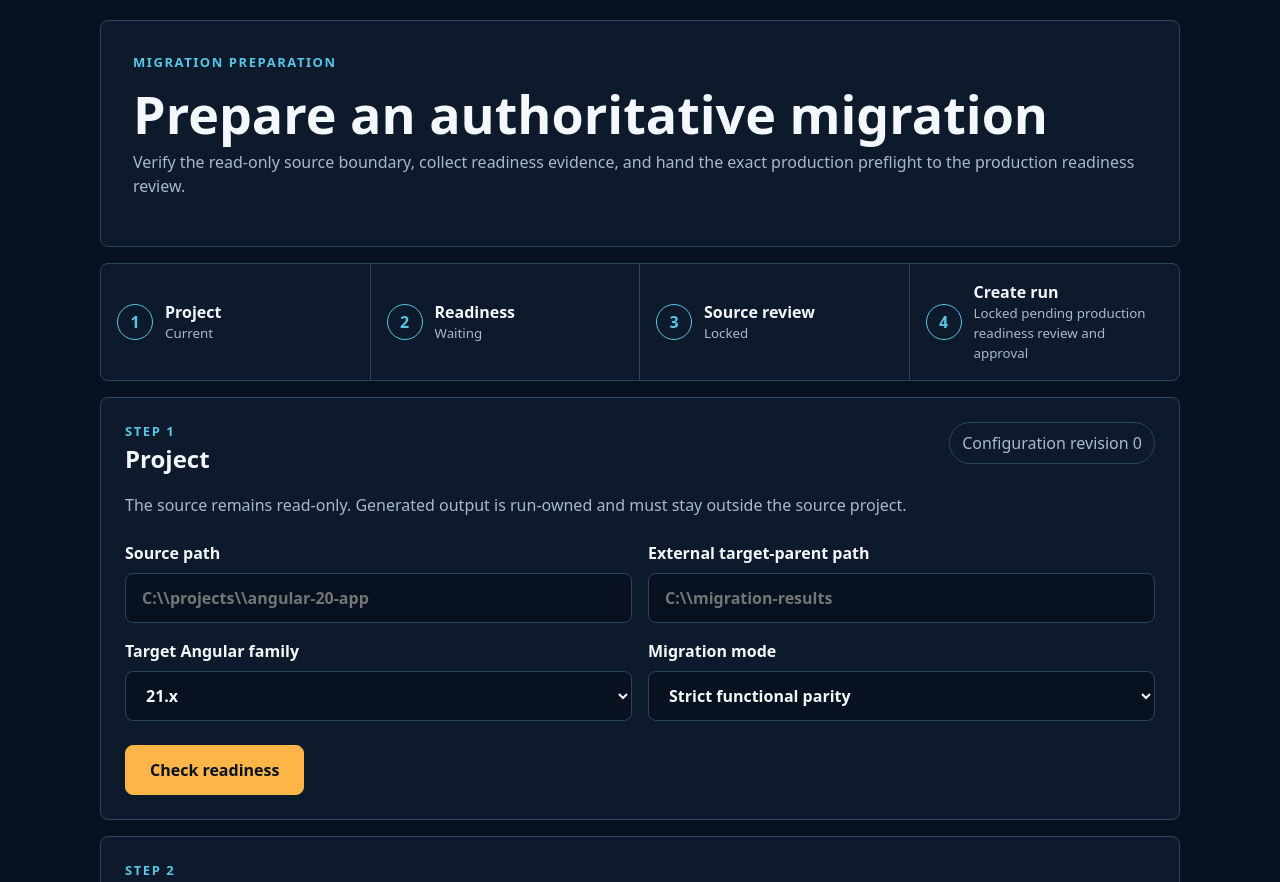
MigrationSetupForm › keeps warning evidence visible while permitting G01 review
Type "C:/external/source" into the field labelled "Source path" at (378, 598), box [125,573,632,623]
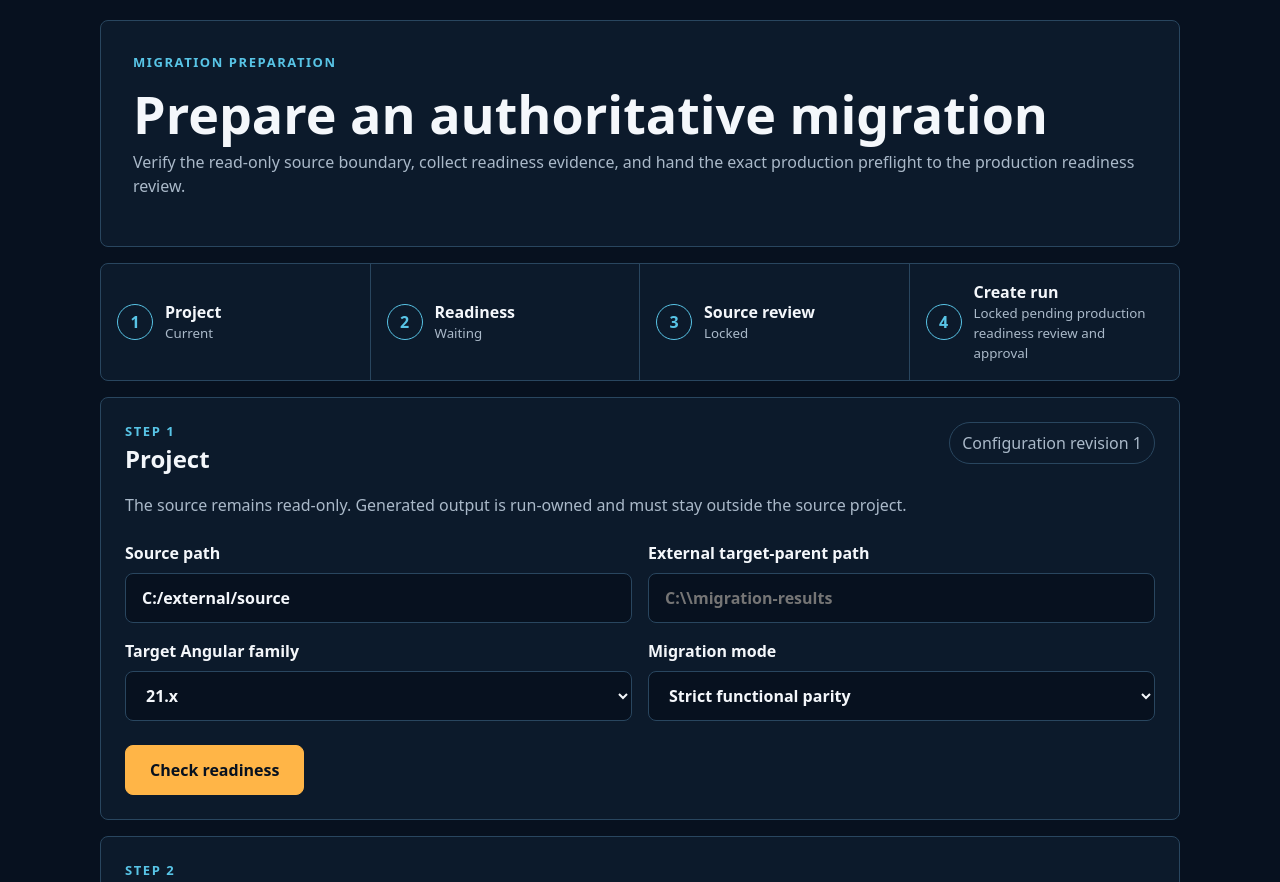
Type "C:/external/target" into the field labelled "External target-parent path" at (902, 598), box [648,573,1155,623]
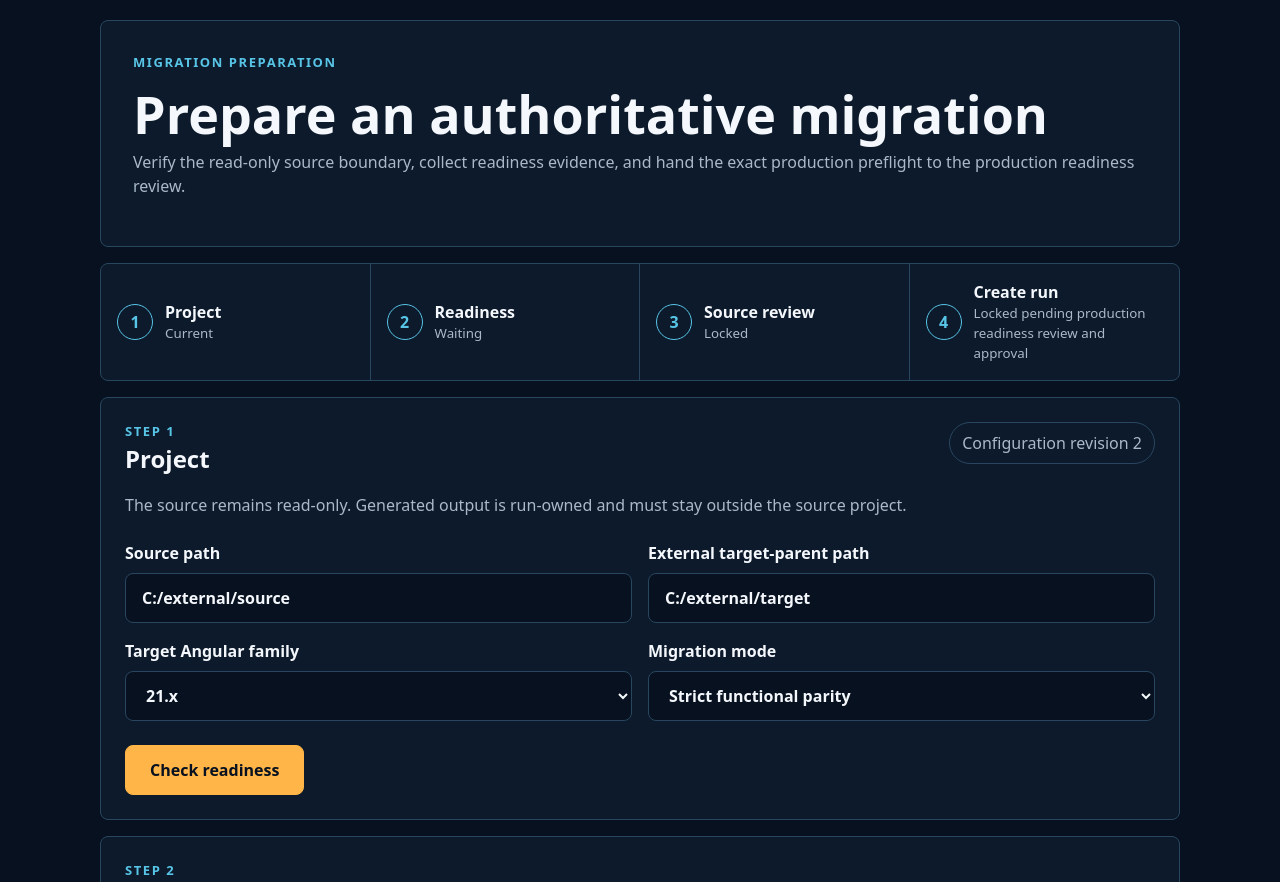
Click the button "Check readiness" at (215, 770), box [125,745,304,795]
(page scrolled)
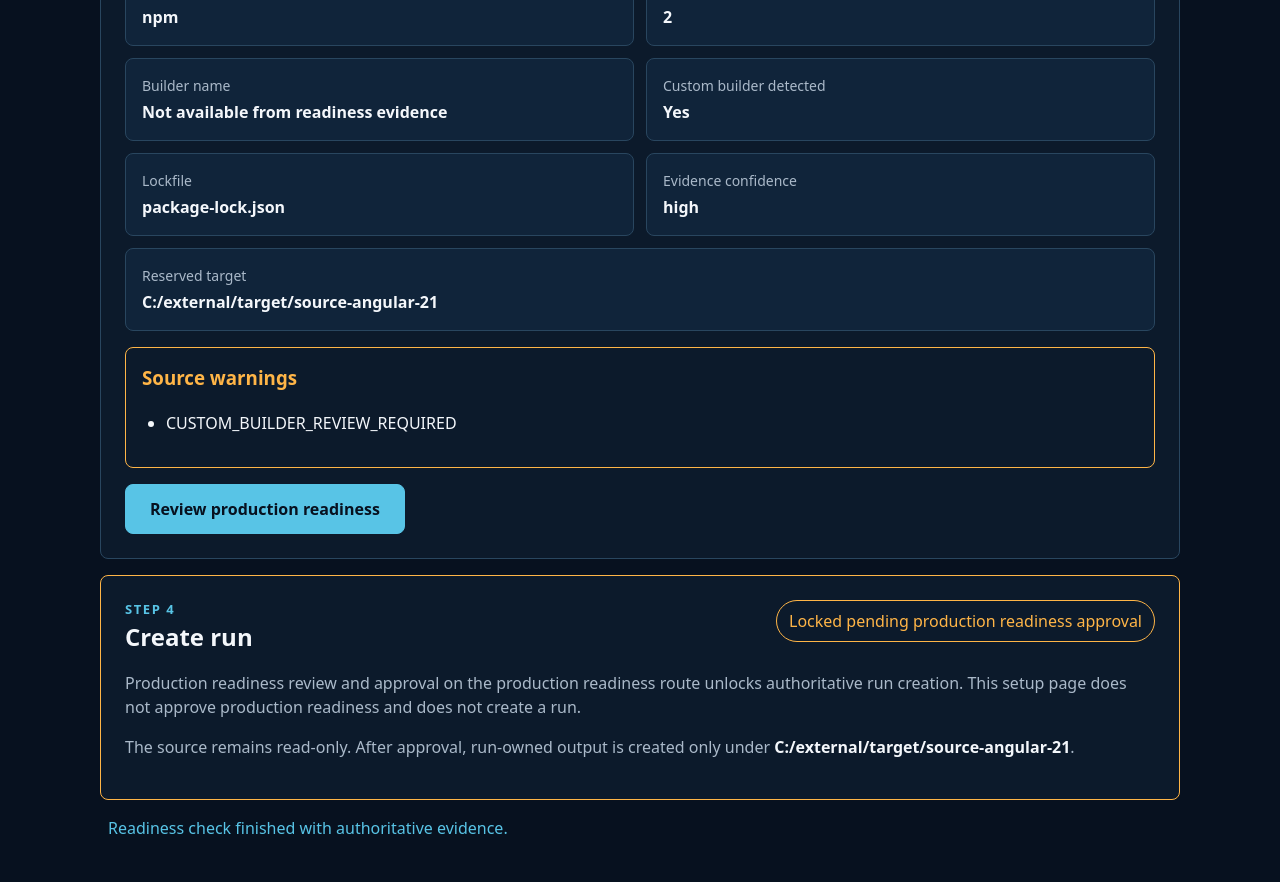
Result: the button "Review production readiness" is enabled at [125,484,405,534]
